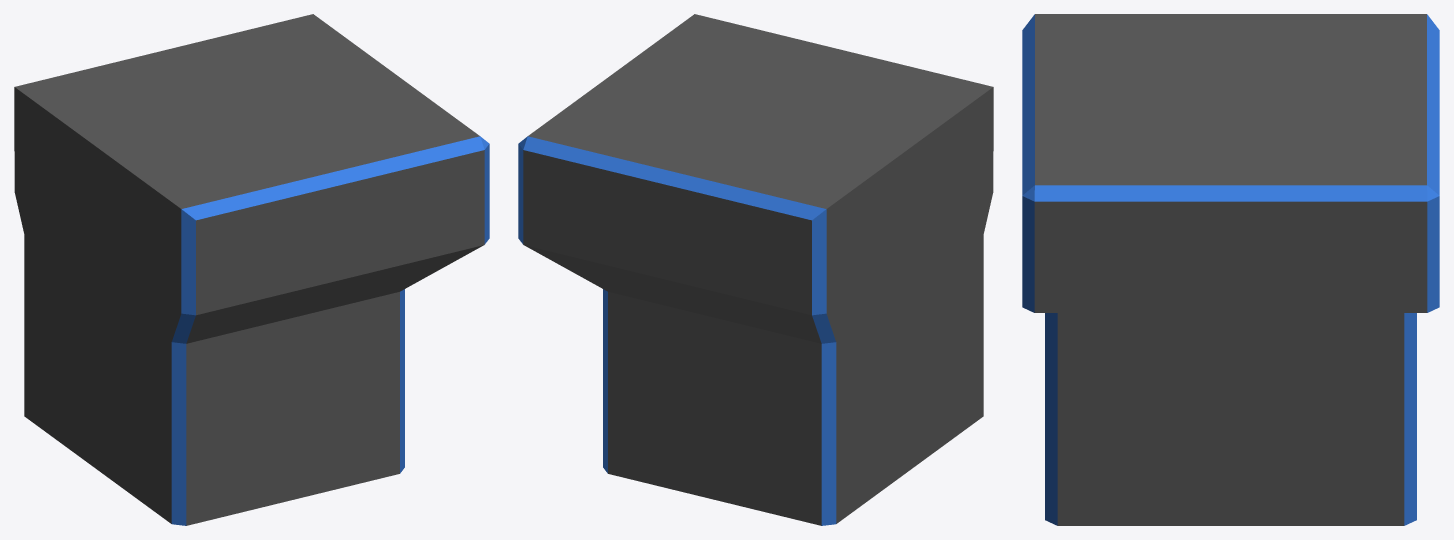
File: generator_mk3.glb
3 views of the same model, side by side, from view 1: azimuth 30°, elevation 25°; view 2: azimuth 150°, elevation 25°; view 3: azimuth 270°, elevation 25° (orthographic). The views are drawn at different scales.
Visible parts, largest first — view 1: generator; view 2: generator; view 3: generator.
Boxes of the visible parts, <box> form: generator: <box>14,14,489,525</box>; generator: <box>518,14,993,525</box>; generator: <box>1022,14,1439,525</box>.
Size of the model in its own units: 1 by 1 by 1.
